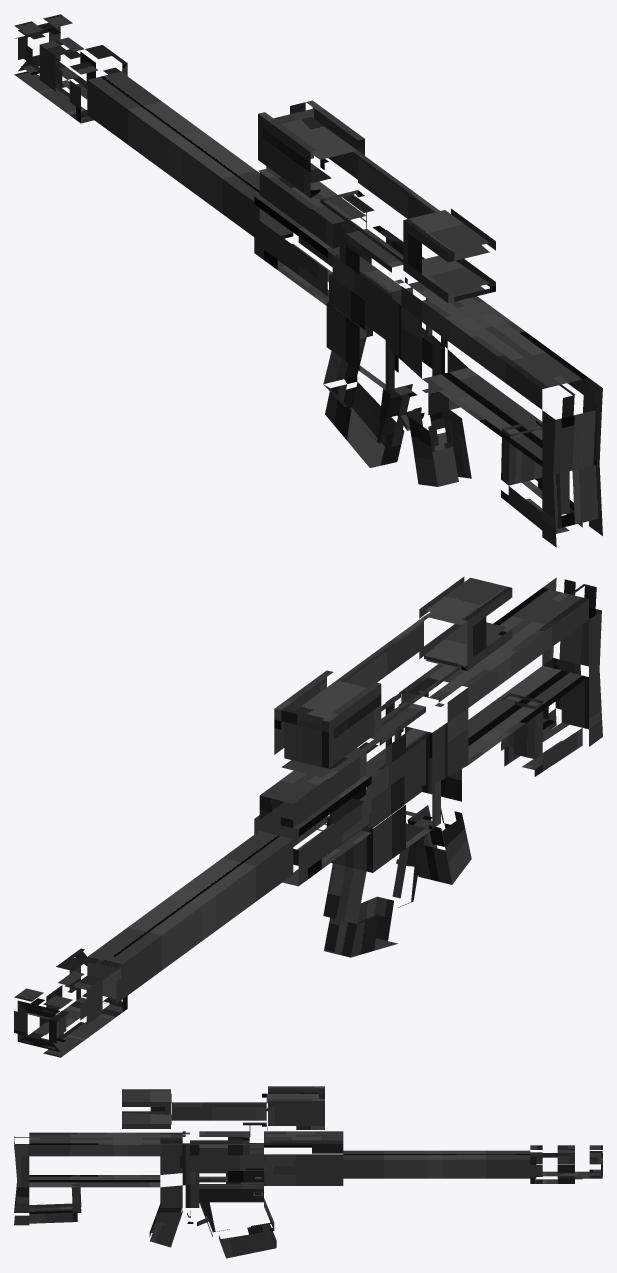
File: Barrett.obj
The picture shows the model from 3 angles, top to bottom: view 1: azimuth 30°, elevation 25°; view 2: azimuth 150°, elevation 25°; view 3: azimuth 270°, elevation 25°; orthographic projection. The views are drawn at different scales.
Visible parts, largest first — view 1: Sniper_Cube.002; view 2: Sniper_Cube.002; view 3: Sniper_Cube.002.
Part boxes in pixels (box(x1,y1,x2,y2)): Sniper_Cube.002: box(14, 14, 602, 547); Sniper_Cube.002: box(14, 576, 602, 1057); Sniper_Cube.002: box(14, 1086, 602, 1258).
Size of the model in its own units: 1.44 by 5.63 by 18.85.
